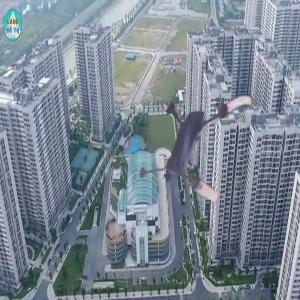drone: (137, 86, 256, 205)
